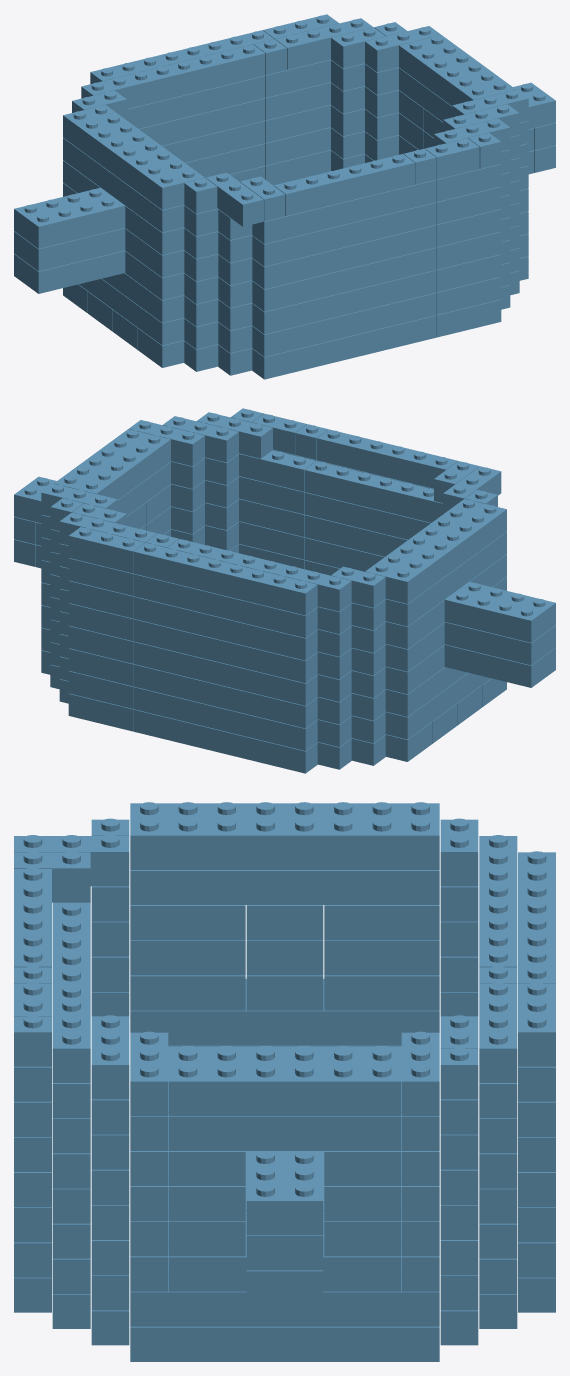
Rendered from collab_pot-L3V2_raw.glb.
The picture shows the model from 3 angles, top to bottom: view 1: azimuth 30°, elevation 25°; view 2: azimuth 150°, elevation 25°; view 3: azimuth 270°, elevation 25°; orthographic projection. The views are drawn at different scales.
Size of the model in its own units: 23.98 by 8.13 by 13.98.
